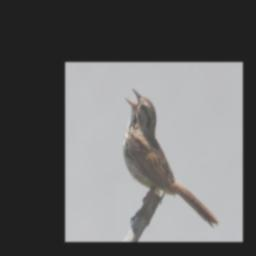Sparrow: (123, 87, 220, 229)
